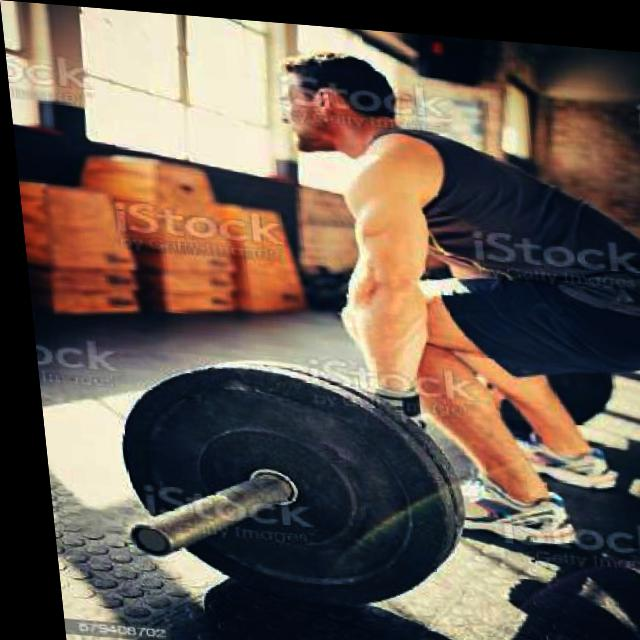barbell: (102, 348, 459, 627)
